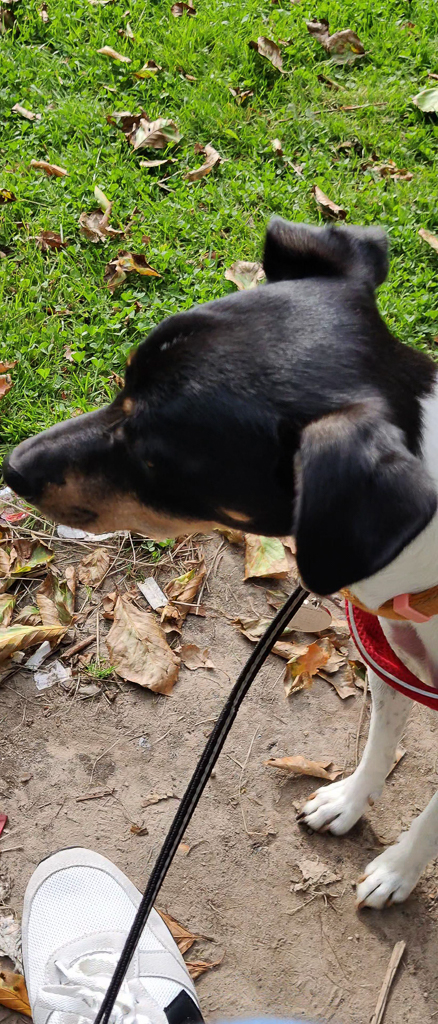Dog: (0, 210, 438, 919)
Humanoid: (14, 824, 335, 1024)
